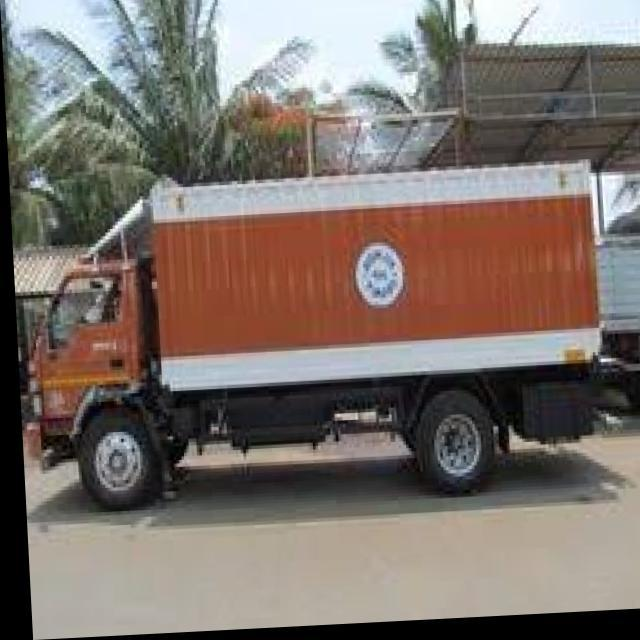covered: (26, 161, 606, 509)
